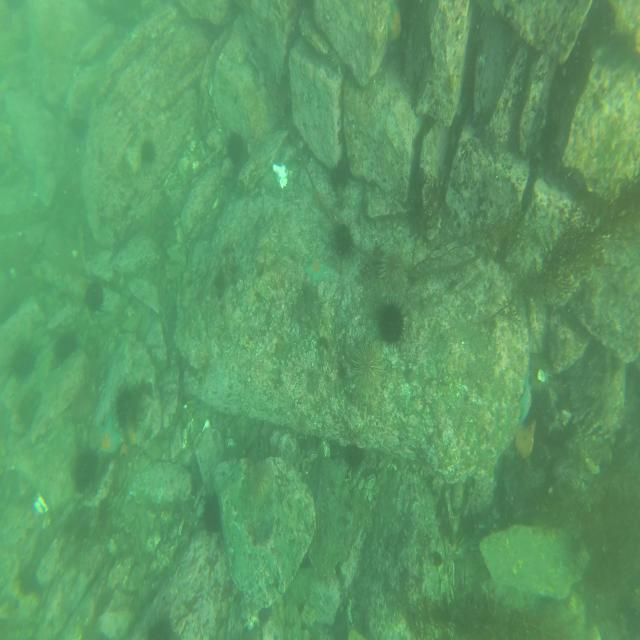echinus: (352, 337, 386, 394), (111, 381, 144, 434), (376, 299, 408, 347), (248, 458, 276, 509), (330, 215, 358, 261), (379, 247, 406, 292), (200, 491, 223, 534), (73, 453, 95, 493), (10, 344, 34, 378), (343, 442, 366, 476), (52, 332, 76, 364), (333, 156, 352, 191), (85, 279, 104, 314), (226, 130, 244, 166), (139, 138, 158, 164)
starfish: (95, 418, 125, 459), (305, 254, 328, 288), (387, 2, 403, 44), (521, 374, 534, 425)
